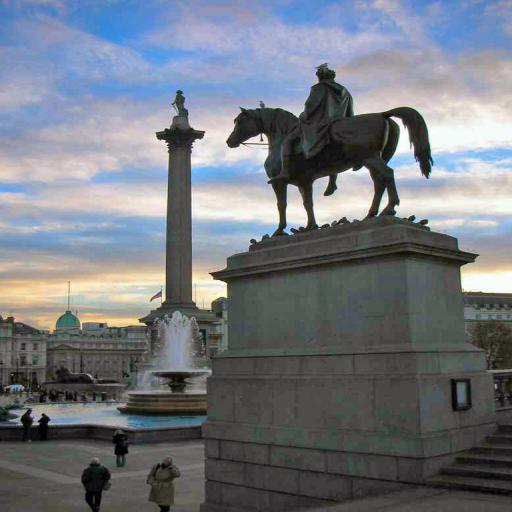horse: (224, 106, 435, 238)
